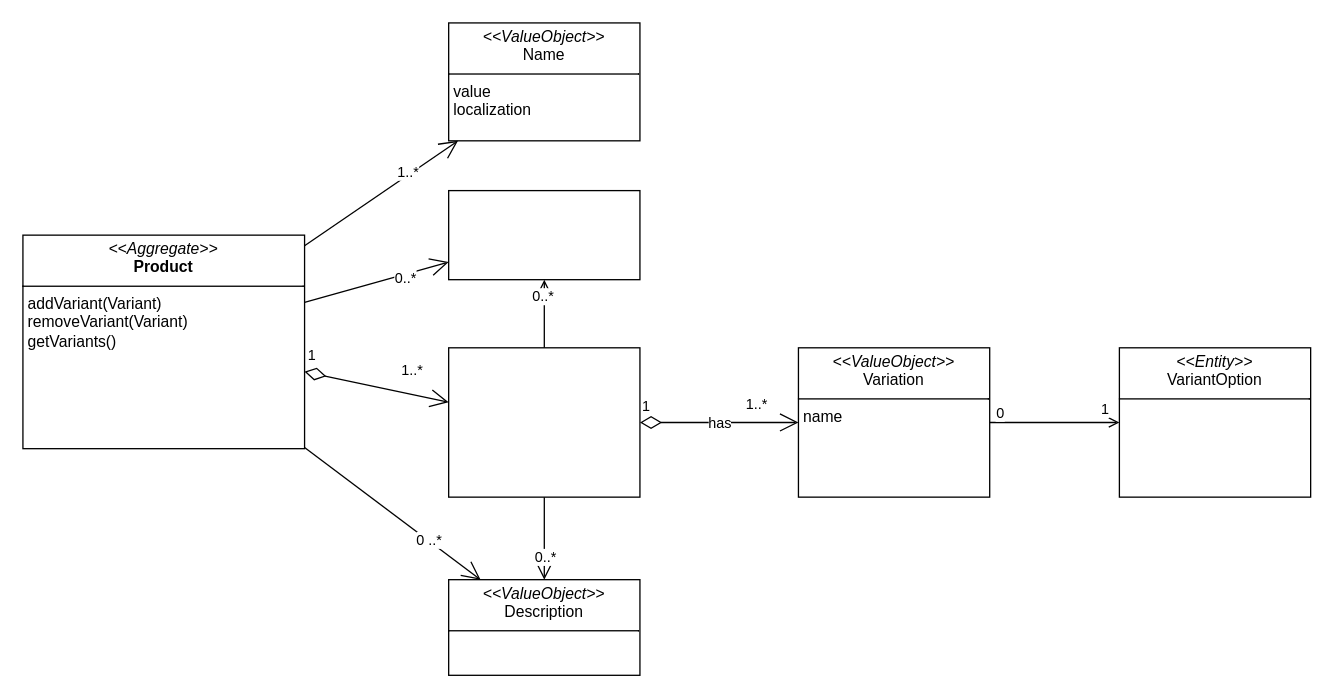
This 1334x698 diagram has some shape labels left out. Each missing label, with the centre of its shape:
<<Entity>> Variant sku: the point at 543,421
<<ValueObject>> Media media_id: the point at 543,234
